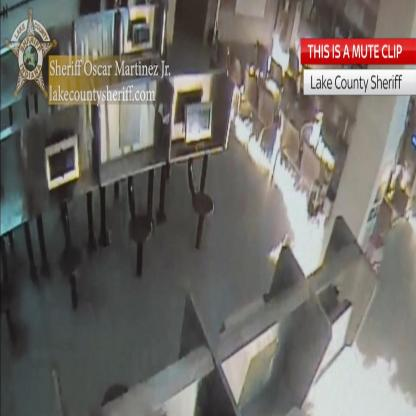fire: (306, 340, 416, 416), (269, 158, 323, 276), (234, 115, 271, 171)
